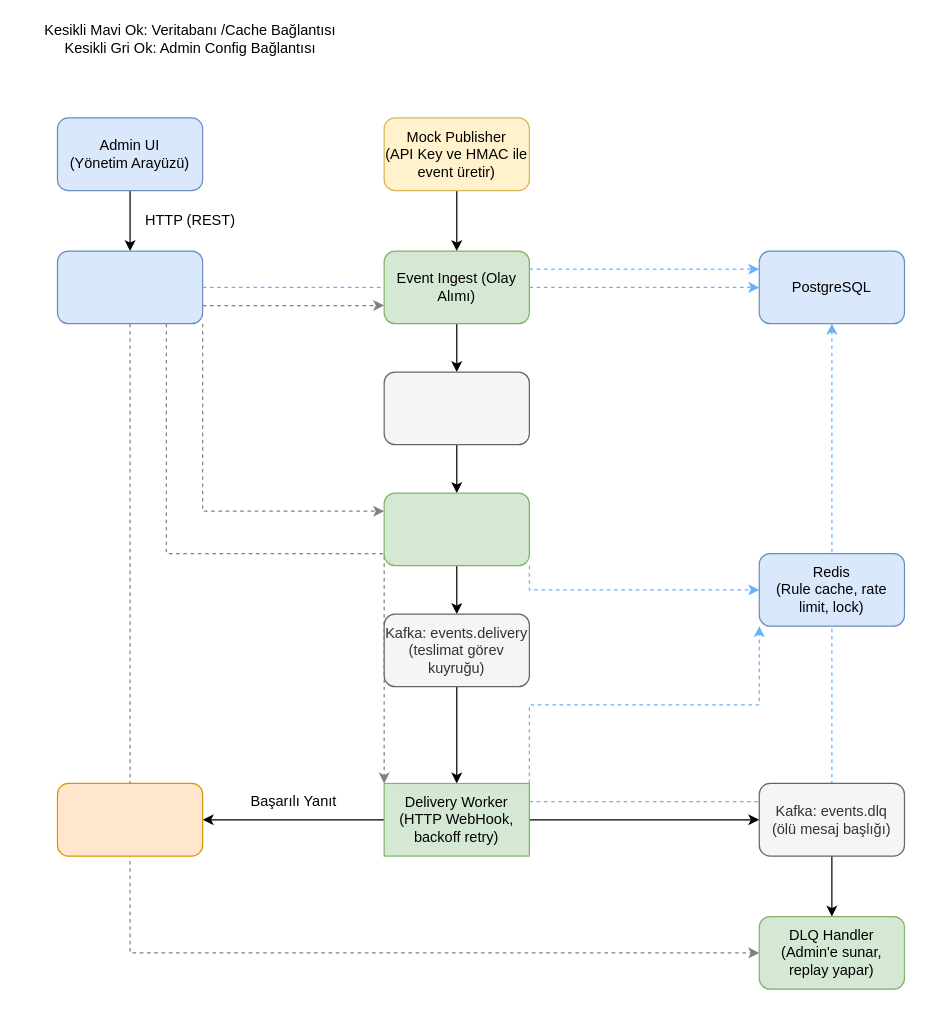
The diagram is 926 pixels wide and 1010 high, and some of its shapes have lost their labels. The centre of each missing label's shape, as x and y in pixels:
Admin API: [129,287]
Kafka: events.ingested: [456,408]
Mock Subscriber / Webhook Sink (Webhook'u HMAC ile doğrular.): [129,819]
Routing Engine (subscription, rule eşleştirme): [456,529]
